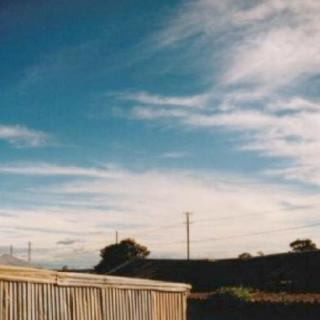Cirrostratus: (0, 0, 320, 238)
